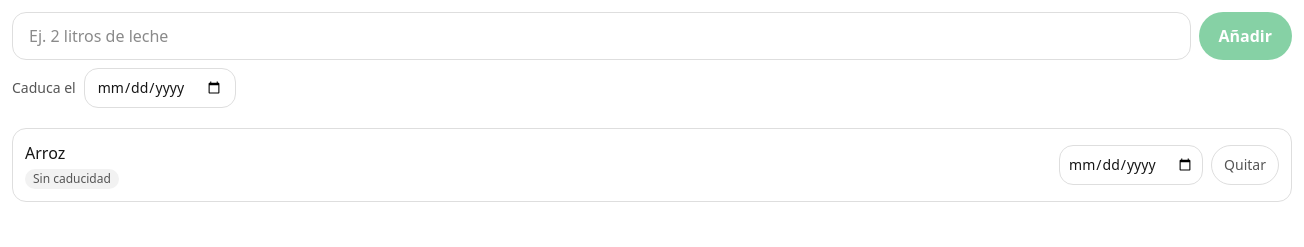
Test: PantryClient › quitar un producto lo saca de la lista
Expected: the text "Arroz" is shown, [25,142,65,164]
Click the button with aria-label "Quitar Arroz de la despensa".
click(1245, 165)  # box [1211,145,1279,185]
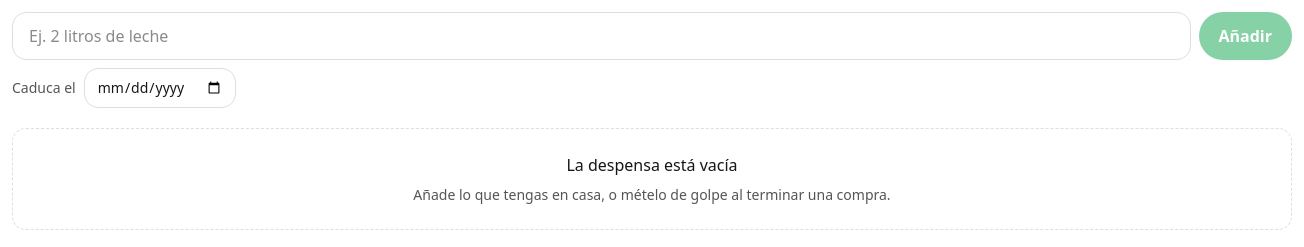
Expected: the text "Arroz" is gone
